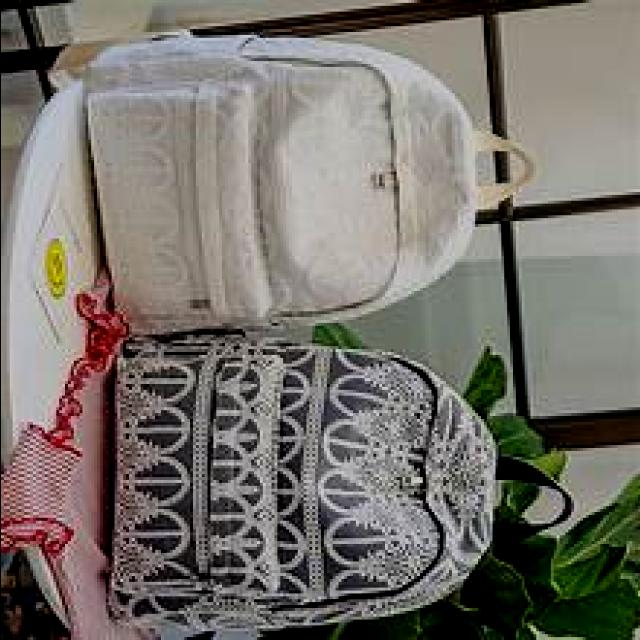backpack: (76, 24, 542, 348), (109, 327, 577, 635)
